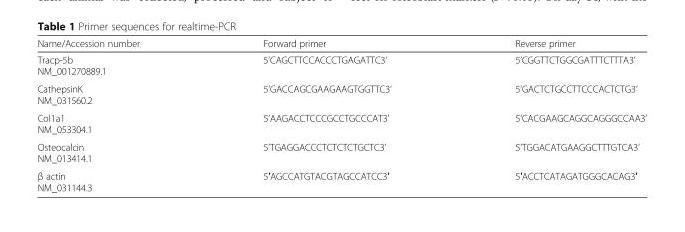table: (36, 37, 646, 192)
table column: (200, 37, 452, 192), (452, 37, 646, 192), (36, 37, 200, 192)
table column header: (36, 37, 646, 51)
table row: (36, 79, 646, 108), (36, 108, 646, 137), (36, 137, 646, 166), (36, 51, 646, 79), (36, 166, 646, 192), (36, 37, 646, 51)
